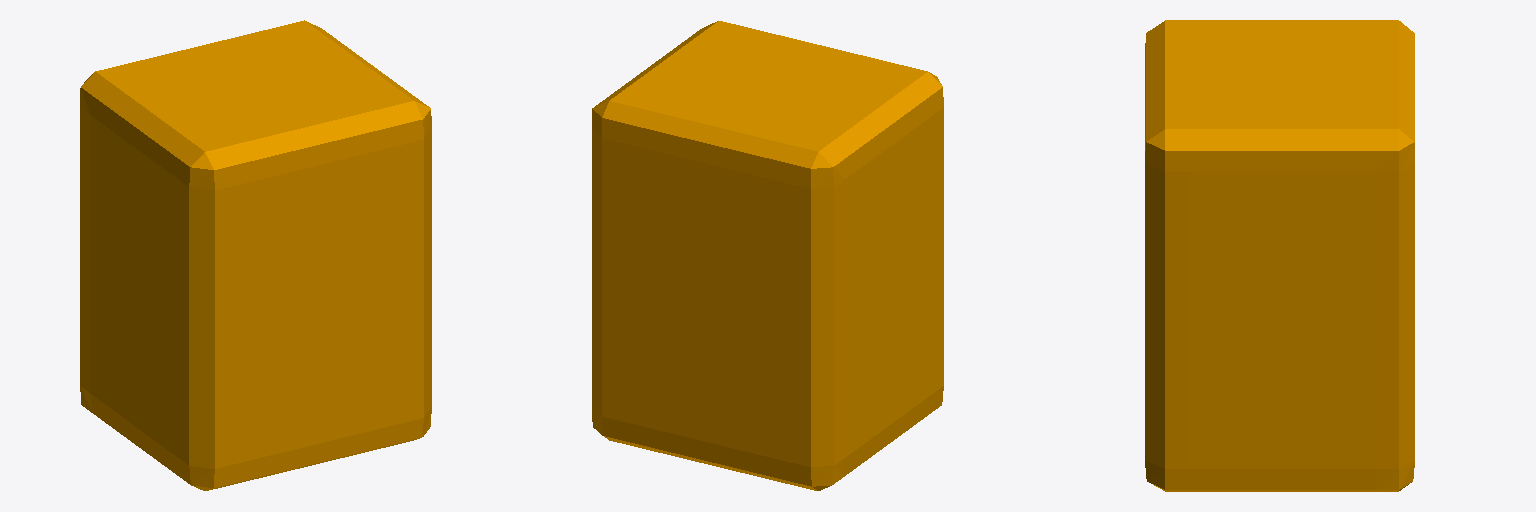
The robot description file, URDF, robot "cylinder_box_24":
<?xml version="1.0" encoding="utf-8"?>  <robot name="cylinder_box_24">   <link name="cylinder_box_24">     <visual>       <geometry>         <mesh filename="../meshes/box/box_24.stl" scale="1 1 1"/>       </geometry>     </visual>     <collision>       <geometry>         <mesh filename="../meshes/box/box_24.stl" scale="1 1 1"/>       </geometry>     </collision>     <inertial>        <origin         xyz="0 0 0"         rpy="0 0 0" />       <mass value="0.3088772916323516"/>       <origin rpy="0 0 0" xyz="0 0 0"/>       <inertia ixx="0.0002682112723217523" ixy="-2.344523463117994e-08" ixz="2.9025332675349044e-08" iyy="0.0002867621171319872" iyz="-4.014429519890875e-08" izz="0.00018607722879718697"/>     </inertial>   </link>  </robot>

--- What the picture shows (computed from the rendered views, not written in the file) ---
3 views of the same robot in one strip: view 1: azimuth 30°, elevation 25°; view 2: azimuth 150°, elevation 25°; view 3: azimuth 270°, elevation 25° (orthographic).
Robot: cylinder_box_24 — 1 links, 0 joints (none); root link cylinder_box_24; default pose: every joint at zero.
Links seen in each view (by area): view 1: cylinder_box_24; view 2: cylinder_box_24; view 3: cylinder_box_24.
Link boxes in pixels (<box>): cylinder_box_24: <box>80,20,431,490</box>; cylinder_box_24: <box>592,21,943,490</box>; cylinder_box_24: <box>1145,20,1414,491</box>.
Size in the robot's own frame: 0.0638 by 0.0578 by 0.0854 metres.
Meshes: 1 distinct files referenced, 1 mesh visuals loaded (1 binary STL).